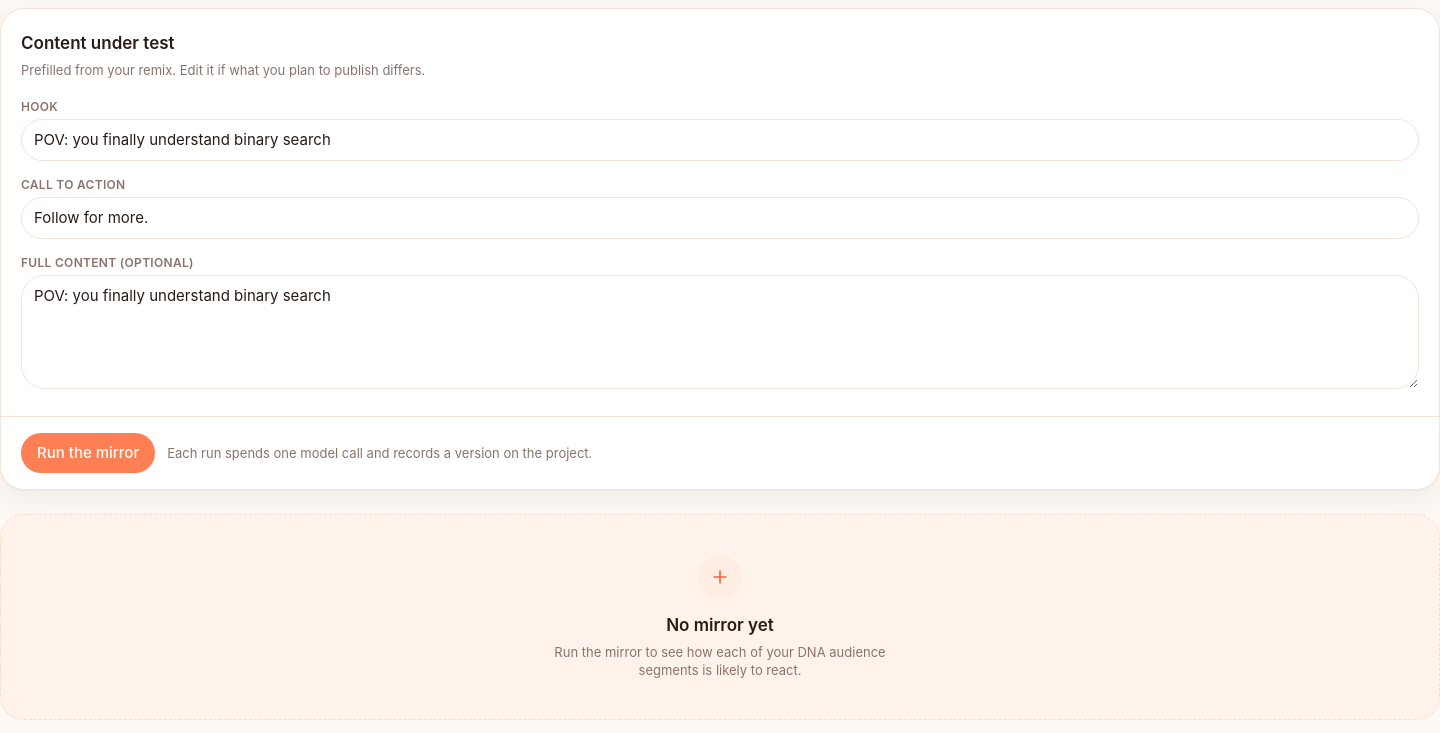
Scenario: AudiencePage › suggests an improved CTA and rewrites it on request
(page scrolled)
Click the button "Run the mirror". click: (88, 452)
box: [21,432,155,472]
(page scrolled)
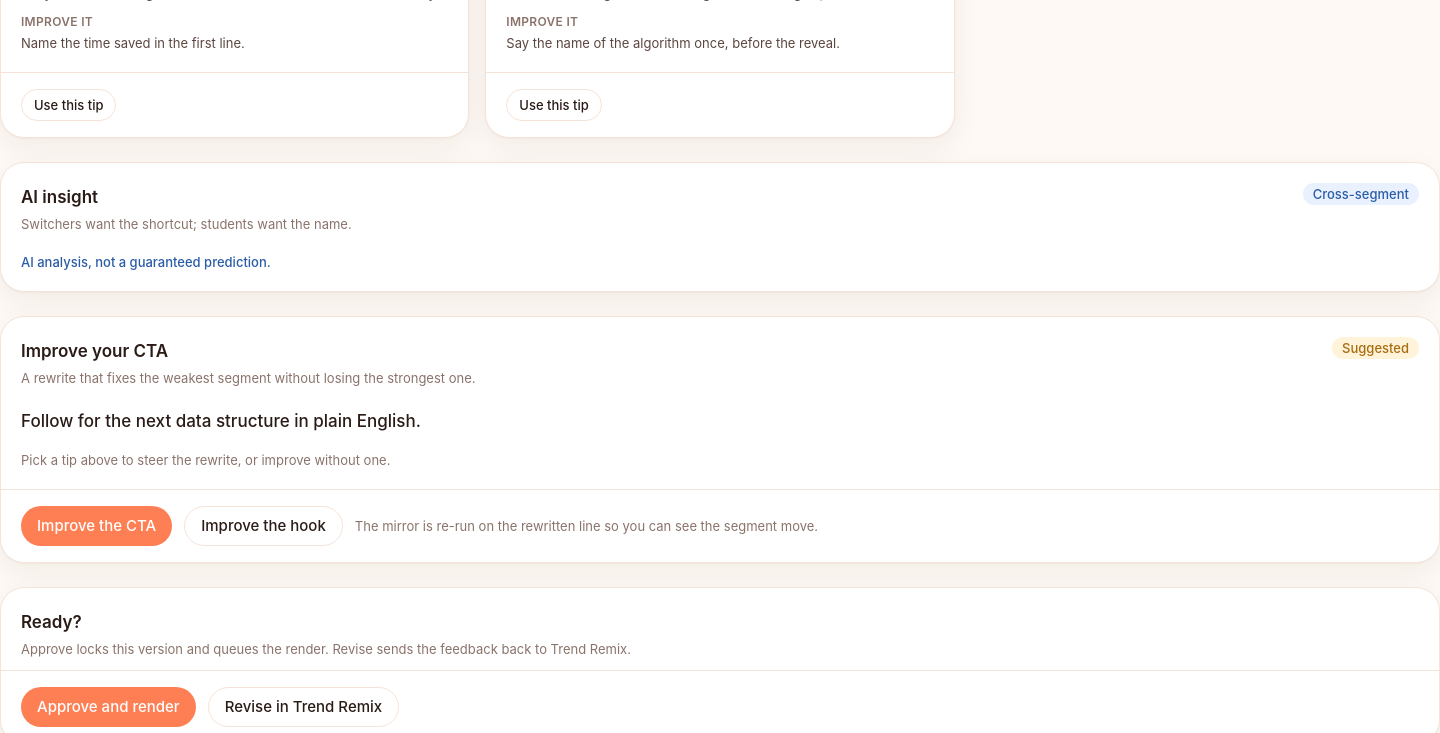
Result: the text "Follow for the next data structure in plain English." is shown at [21,410,421,430]
Click the button "Improve the CTA". click: (97, 526)
box: [21,506,172,546]
(page scrolled)
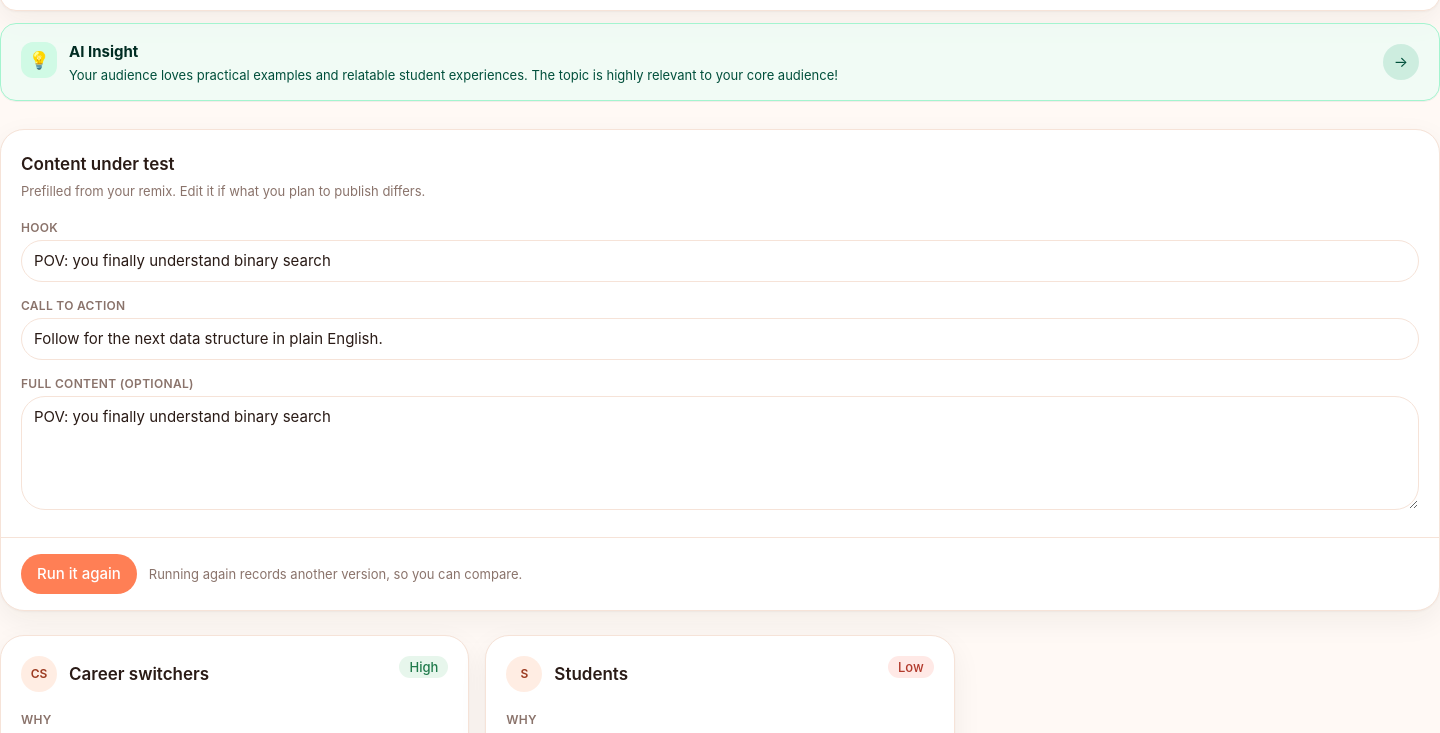
Result: the field labelled "Call to action" holds "Follow for the next data structure in plain English." at [21,318,1419,360]
